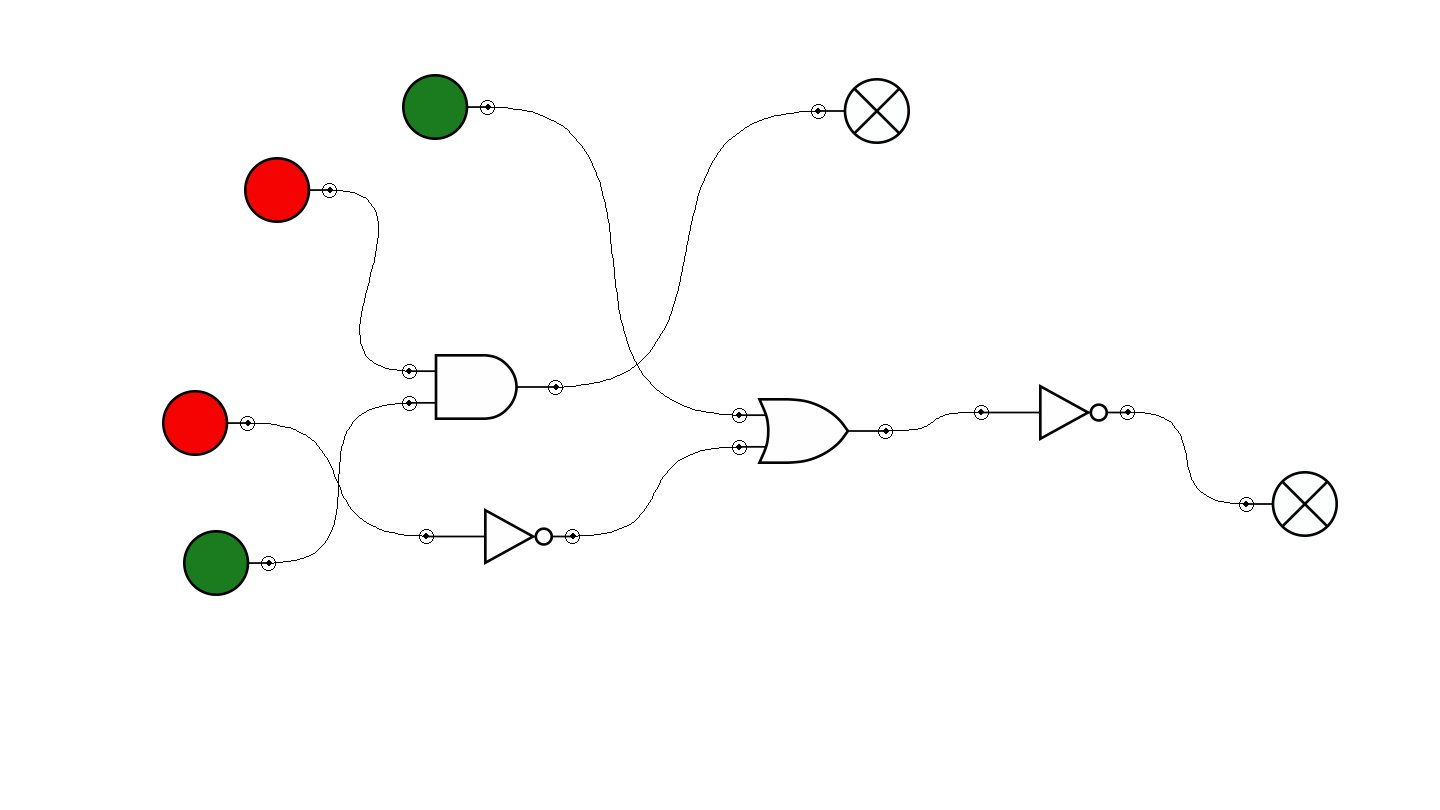and: (402, 354, 563, 420)
bulb: (1239, 471, 1338, 537), (811, 78, 910, 144)
not: (974, 384, 1135, 441), (419, 508, 580, 565)
or: (732, 398, 893, 464)
switch_False: (162, 390, 255, 456), (244, 157, 337, 223)
switch_True: (183, 530, 276, 596), (402, 74, 495, 140)
